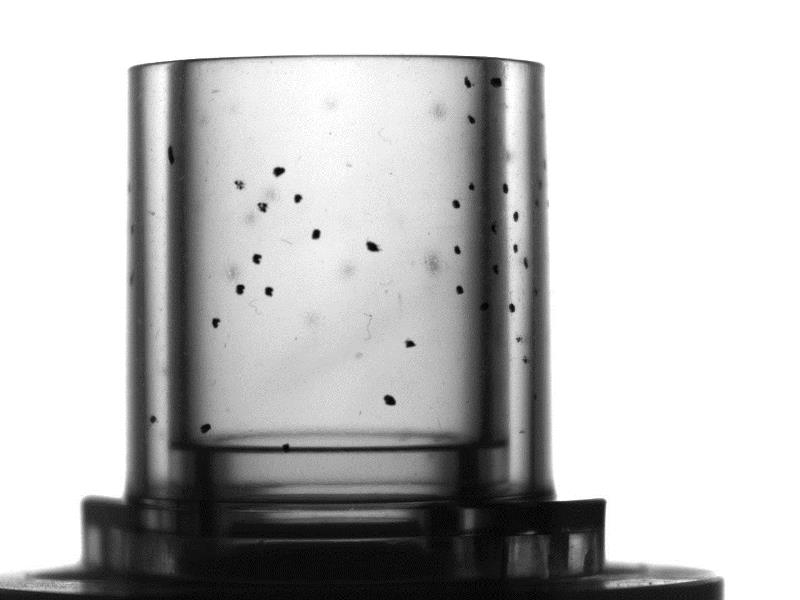blackdot: (362, 239, 384, 254), (491, 70, 509, 87), (196, 420, 214, 436), (402, 337, 419, 353), (251, 251, 265, 268), (256, 199, 269, 216), (381, 396, 399, 408), (146, 411, 161, 425), (279, 441, 294, 455), (233, 282, 247, 296), (465, 178, 479, 192), (210, 312, 223, 327), (309, 227, 322, 242), (465, 112, 480, 125), (510, 208, 522, 224), (262, 284, 275, 298), (293, 191, 305, 206), (450, 244, 465, 256), (498, 179, 510, 194), (270, 164, 286, 175), (518, 354, 531, 367), (508, 301, 519, 316), (462, 74, 474, 87), (453, 283, 467, 294), (451, 197, 462, 211), (514, 334, 528, 345), (233, 178, 246, 189), (512, 240, 521, 254), (524, 260, 534, 272)
